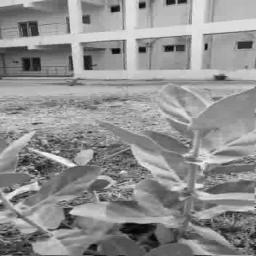Calotropis: (0, 118, 255, 255), (153, 76, 255, 122)
